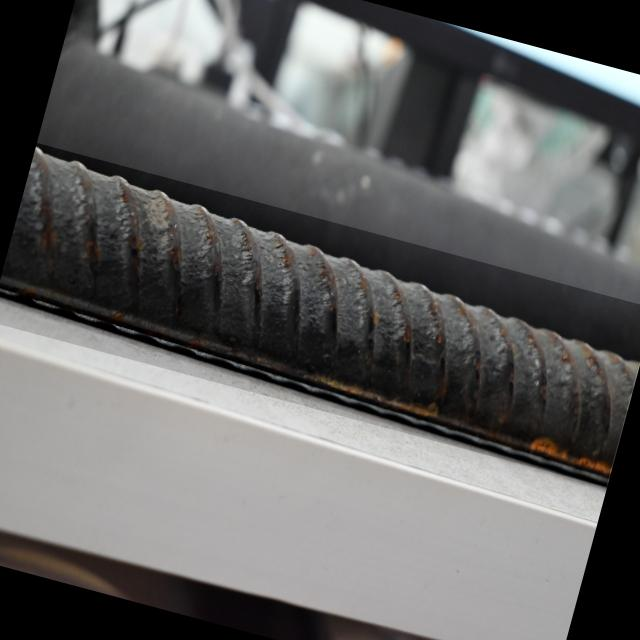ribbed bar: (0, 142, 640, 486)
